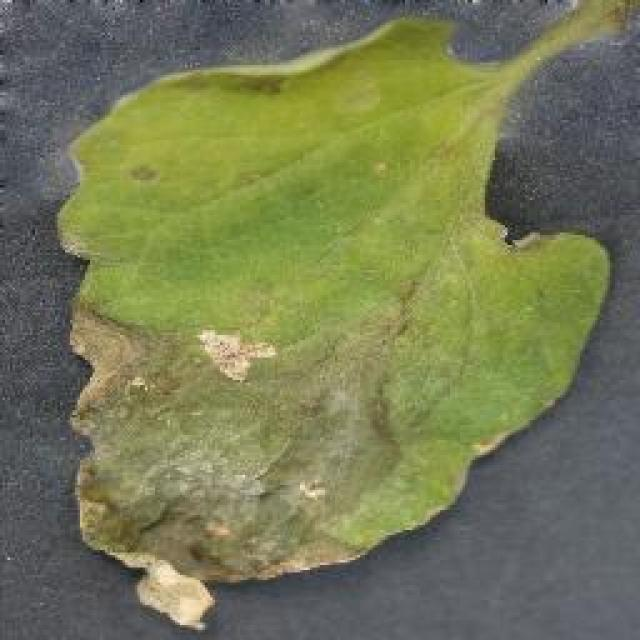Tomato late blight leaf: (43, 6, 615, 636)
